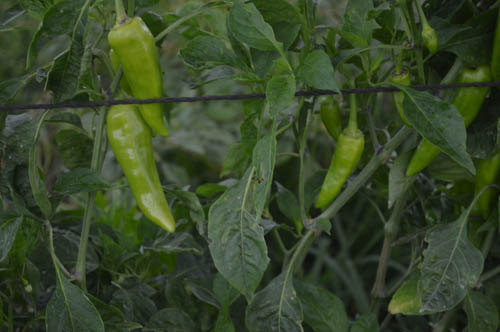ChiliPepper: (104, 106, 175, 233), (406, 70, 487, 177), (111, 21, 169, 135), (311, 138, 358, 206), (321, 99, 345, 137)
